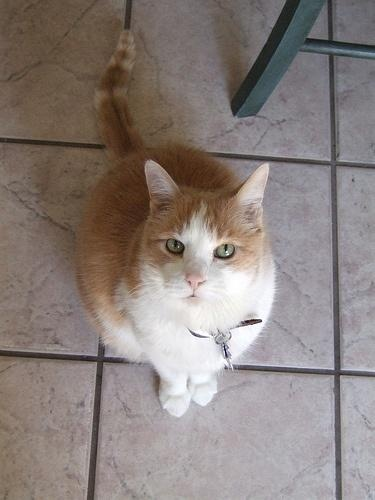cat: (78, 32, 276, 413)
